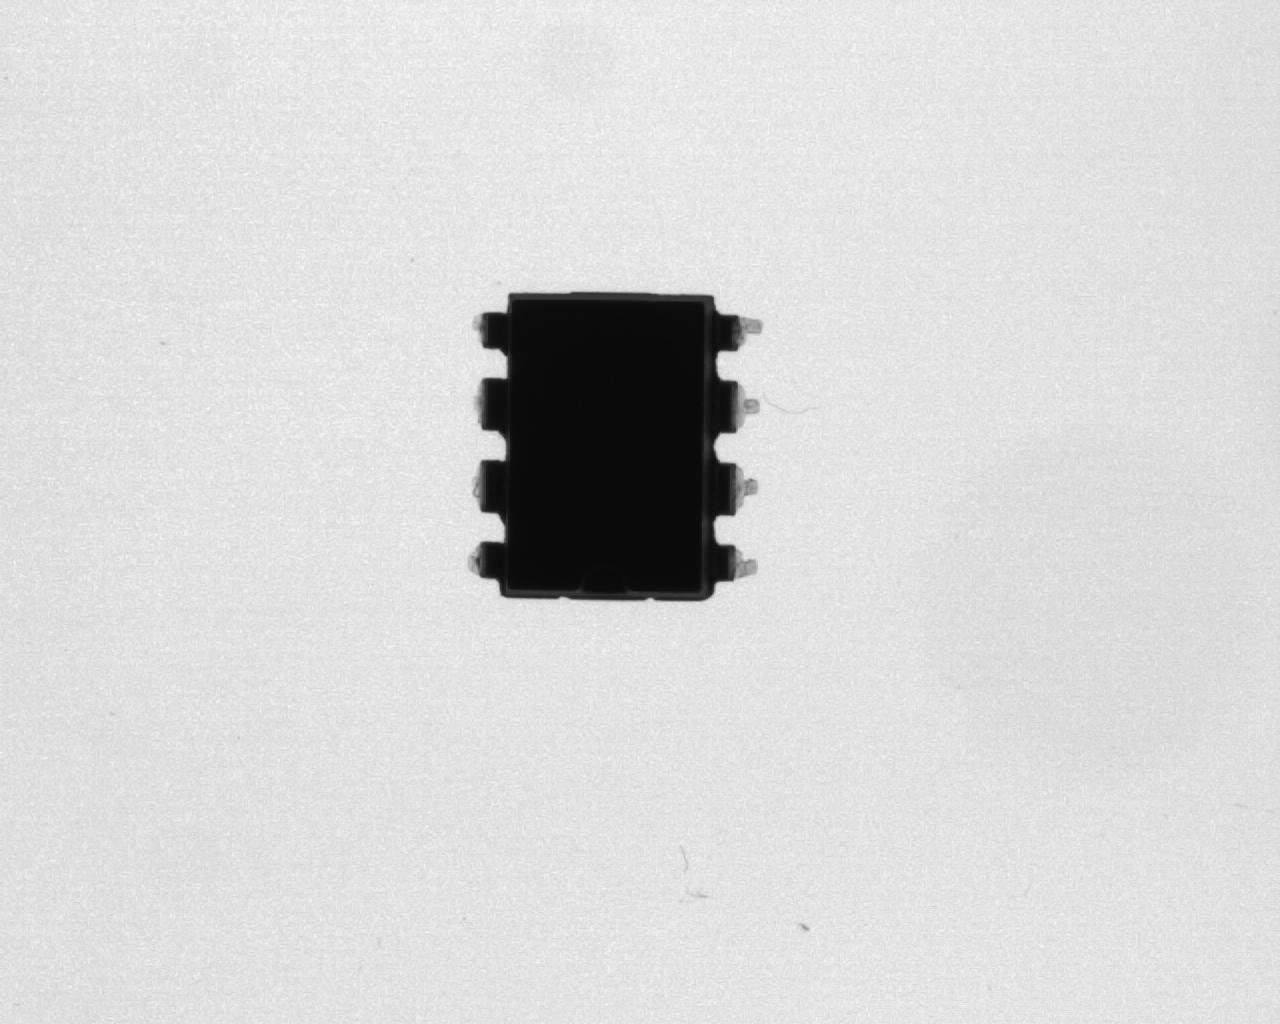Leg: (449, 375, 510, 439), (712, 457, 763, 520), (456, 457, 507, 516), (717, 373, 761, 436), (711, 538, 760, 589), (717, 308, 765, 354), (461, 539, 510, 583), (463, 311, 508, 357)
